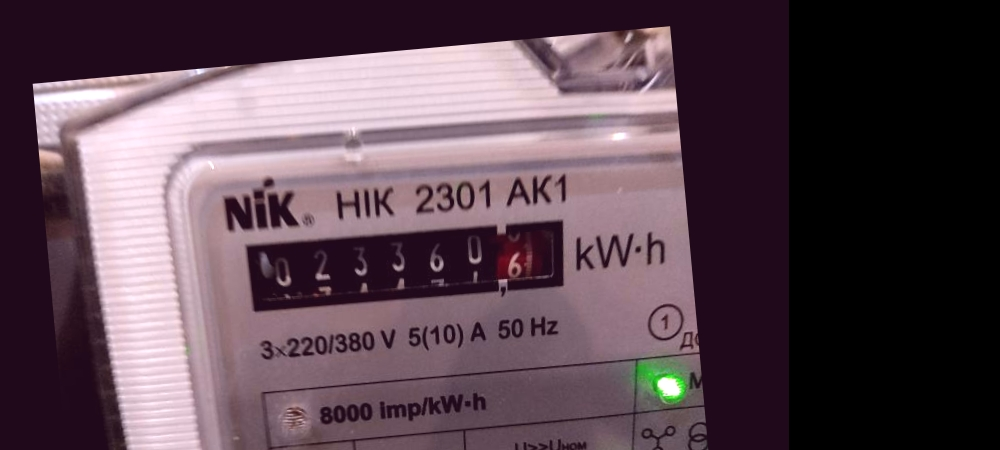0: (269, 251, 294, 288), (461, 230, 486, 267)
2: (309, 246, 333, 282)
3: (347, 242, 370, 279), (386, 238, 407, 273)
6: (423, 237, 446, 273), (502, 246, 523, 280)
screen: (230, 202, 588, 332)
